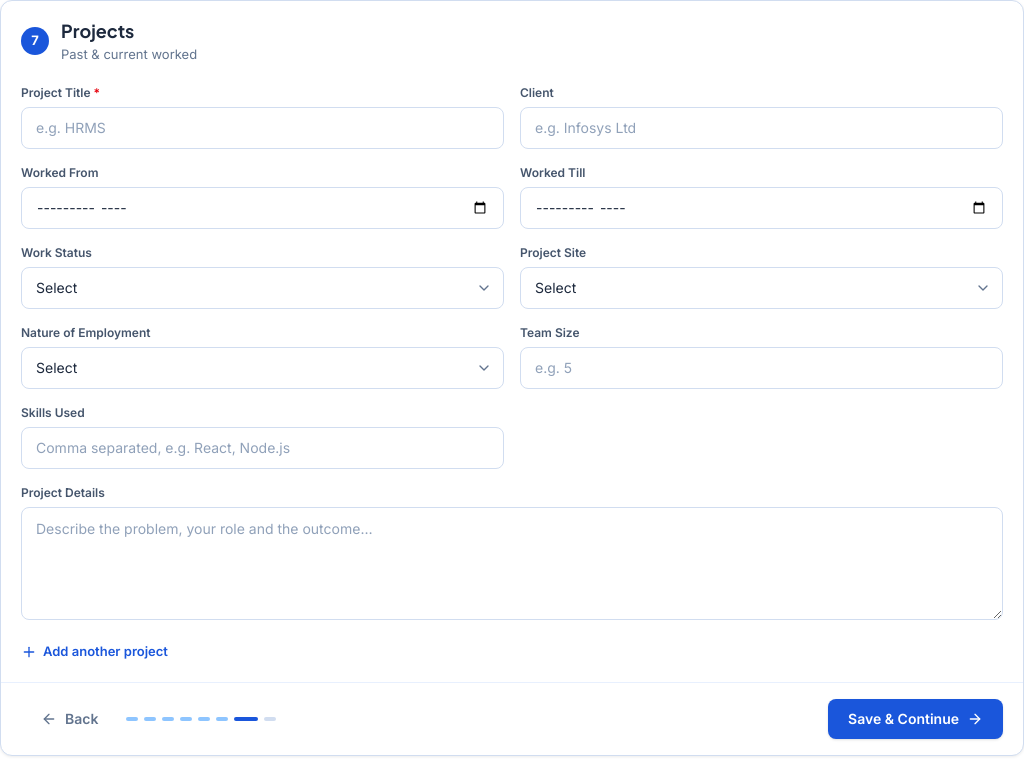
Test case: ProjectsStep › falls back to the generic message when the failure carries no field detail
Type "HRMS" into the field labelled "Project Title *".
click(262, 128); type("HRMS")  # box [21,106,504,148]
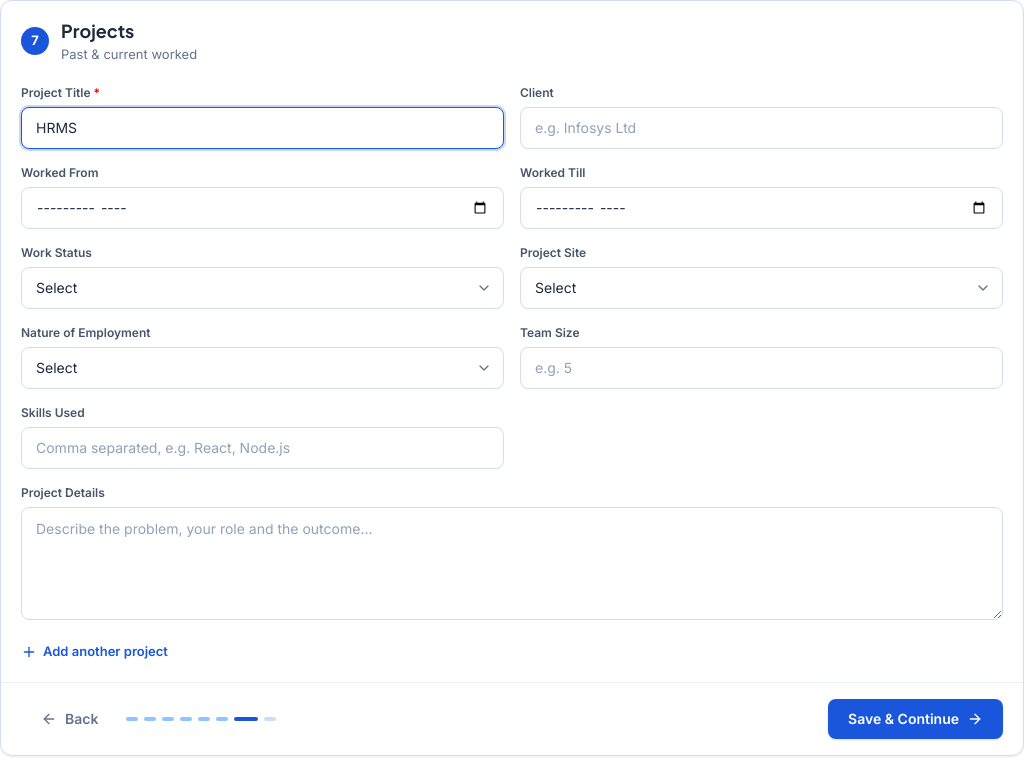
Click the button "Save & Continue".
click(916, 718)  # box [828,698,1003,738]
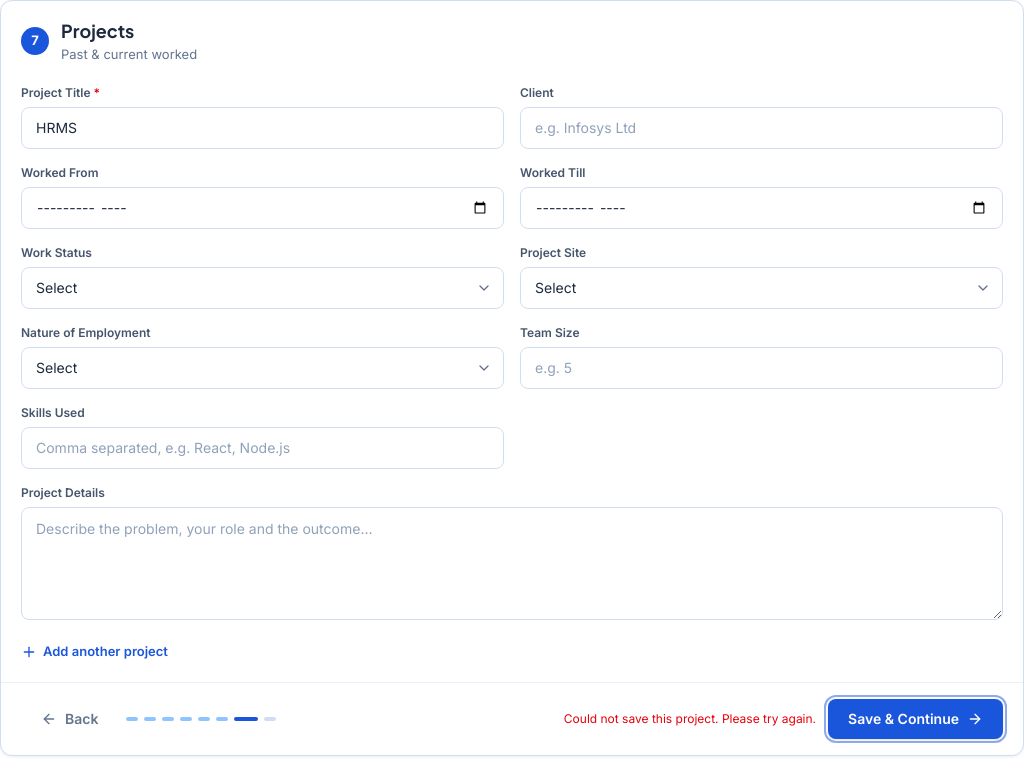
Expected: the text "Could not save this project. Please try again." is shown, [564,710,816,726]
